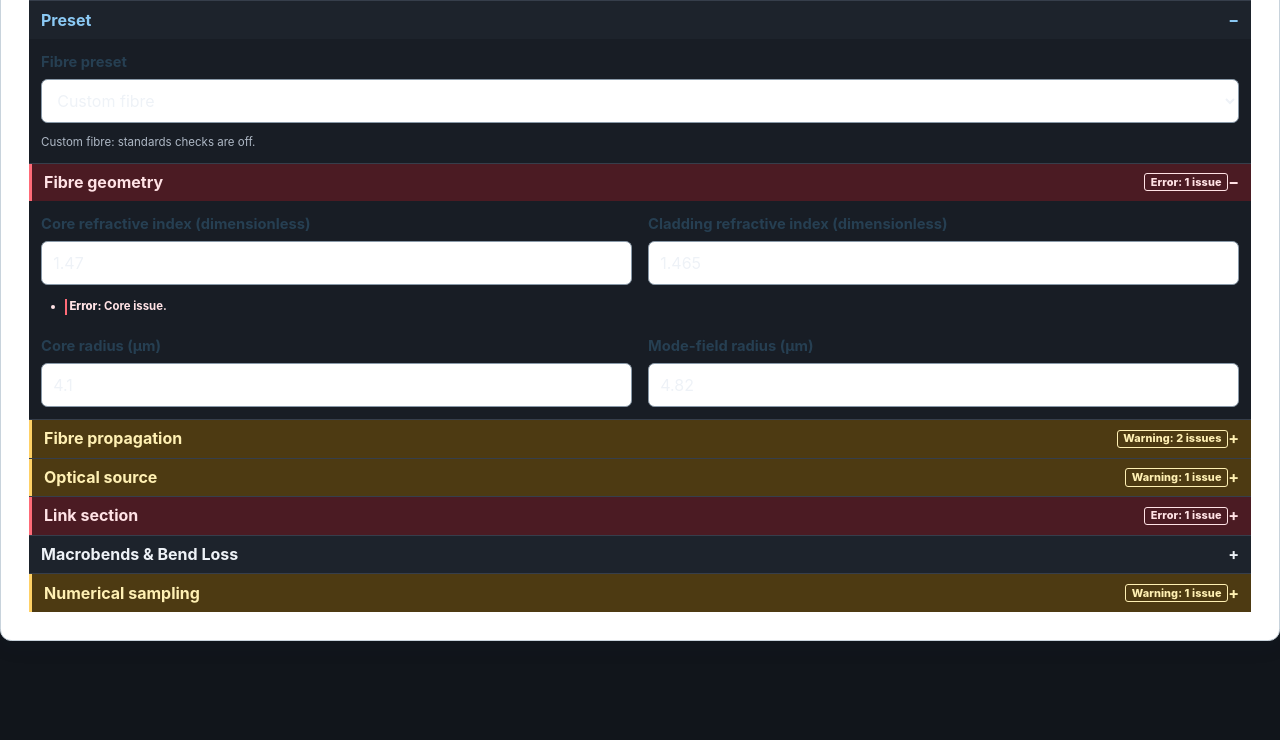
it: Level1Form inspector accordion › aggregates issues with the sections containing their fields
Click the button "Fibre propagation Warning: 2 issues +" at (113, 438), box [29, 420, 1251, 458]
(page scrolled)
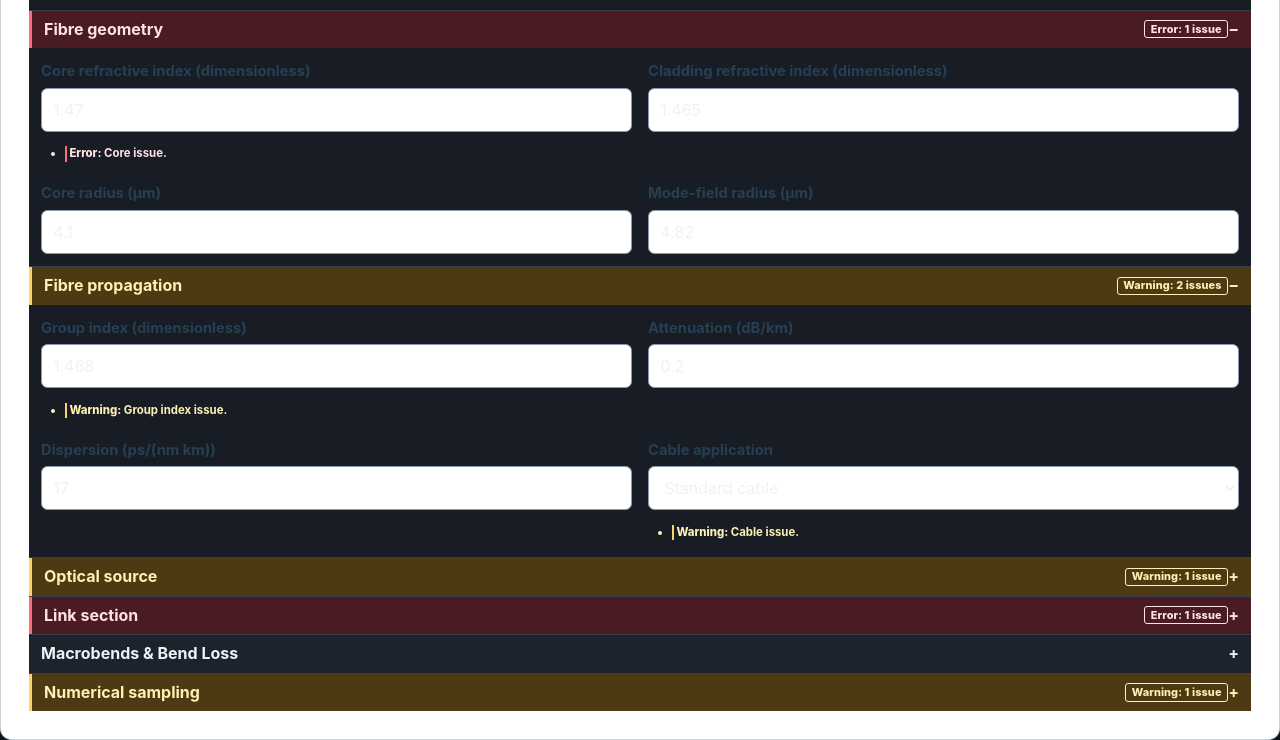
Check: the list item "Group index issue." is shown, box [124, 403, 227, 417]
Check: the list item "Cable issue." is shown, box [731, 525, 799, 539]
Click the button "Link section Error: 1 issue +" at (91, 615), box [29, 597, 1251, 634]
(page scrolled)
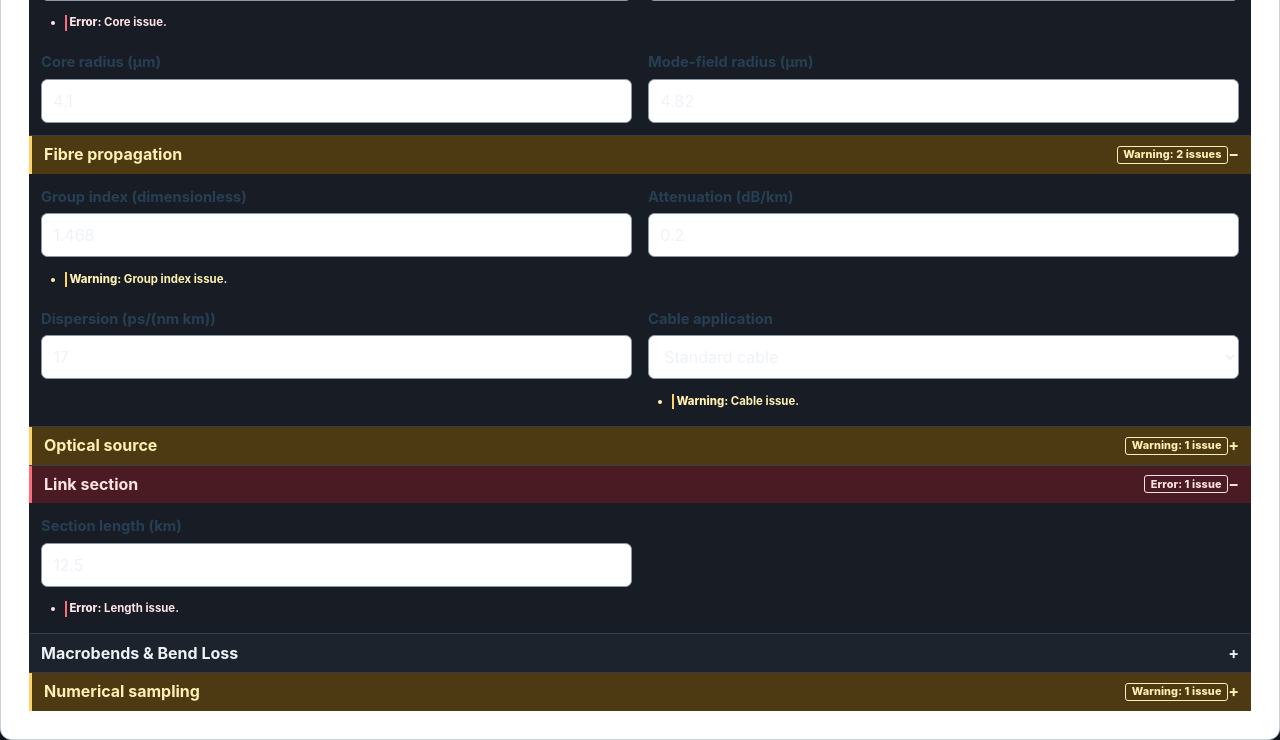
Check: the list item "Length issue." is shown, box [104, 601, 179, 615]
